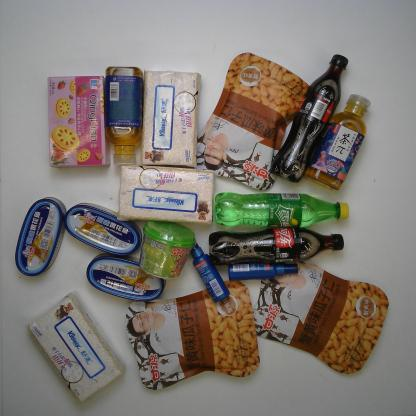Canned Food: (62, 201, 144, 257), (15, 195, 67, 279), (86, 252, 166, 302)
Dessert: (46, 74, 112, 169)
Dried Fruit: (252, 256, 392, 377), (194, 49, 312, 192), (124, 279, 262, 392)
Drink: (267, 51, 350, 185), (302, 92, 372, 193), (207, 226, 347, 266), (212, 190, 352, 229), (103, 64, 145, 168)
Instant Drink: (137, 218, 197, 280)
Personal Hygiene: (188, 239, 230, 304), (227, 258, 300, 282)
Tissue: (24, 290, 126, 404), (116, 162, 216, 226), (139, 68, 202, 169)
